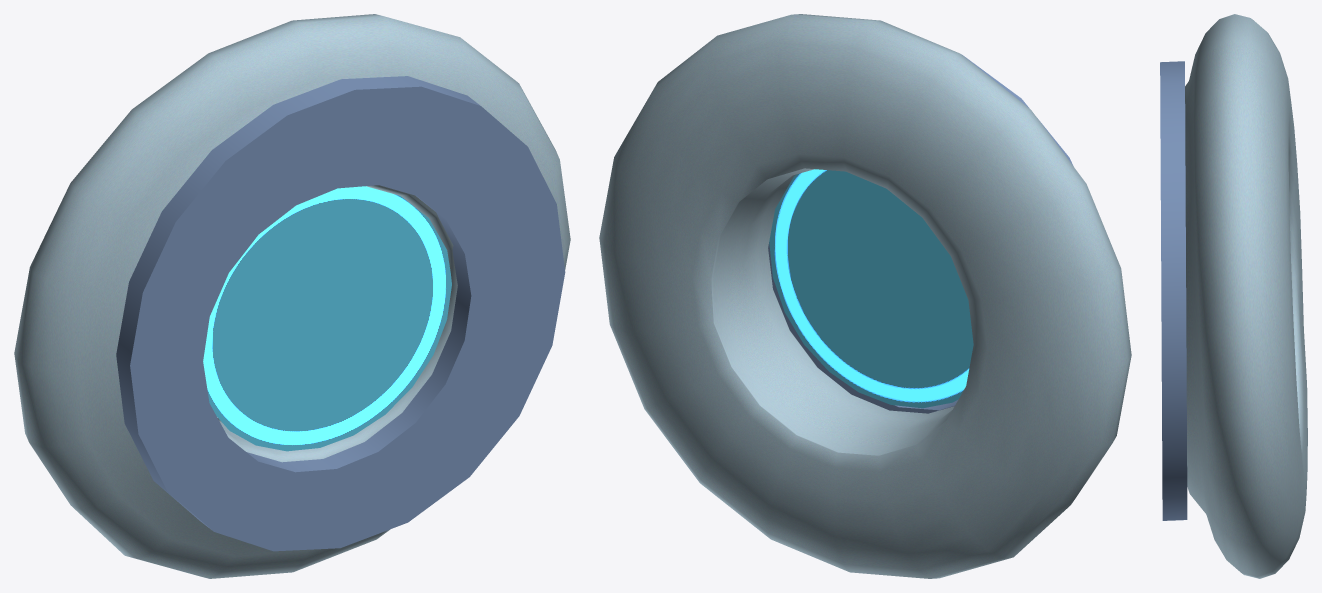
The model's file is teleportdoor.fbx.
3 views of the same model, side by side, from view 1: azimuth 30°, elevation 25°; view 2: azimuth 150°, elevation 25°; view 3: azimuth 270°, elevation 25° (orthographic). The views are drawn at different scales.
Visible parts, largest first — view 1: polySurface1, pTorus2, doorinner; view 2: pTorus2, doorinner, polySurface1; view 3: pTorus2, polySurface1.
Boxes of the visible parts, x1,y1,x2,y2 form: polySurface1: [116, 76, 565, 551]; pTorus2: [14, 14, 570, 578]; doorinner: [203, 186, 451, 451]; pTorus2: [599, 14, 1131, 578]; doorinner: [769, 169, 973, 408]; polySurface1: [768, 54, 1073, 413]; pTorus2: [1185, 14, 1307, 578]; polySurface1: [1160, 61, 1187, 520].
Bounding box in the file's own units: 14.88 × 14.54 × 3.79.
3 materials, 1 textured.
